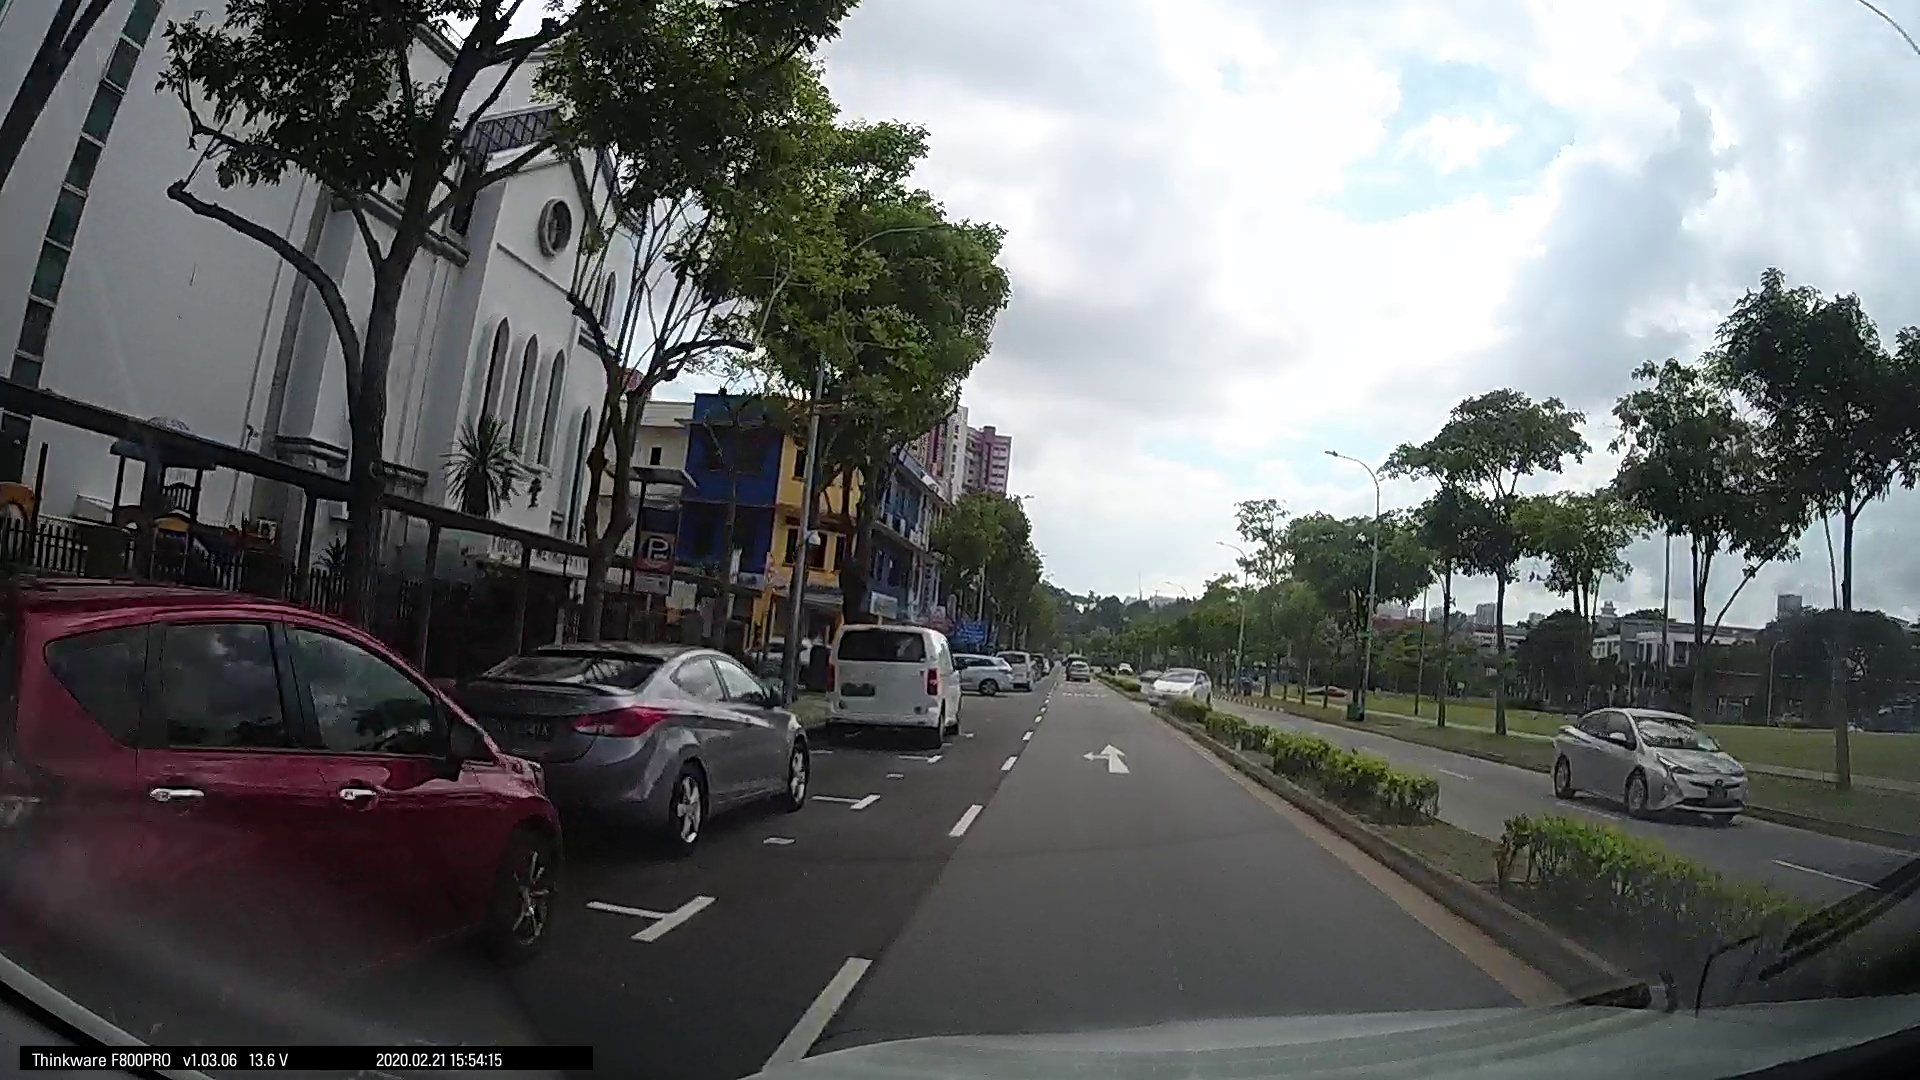Heavy Vehicle: (837, 616, 953, 729)
Light Vehicle: (1, 632, 593, 994), (471, 640, 781, 853), (1499, 663, 1735, 818), (1411, 680, 1510, 775), (1345, 687, 1418, 756), (1153, 650, 1215, 705), (1025, 653, 1071, 698), (953, 650, 990, 687)
